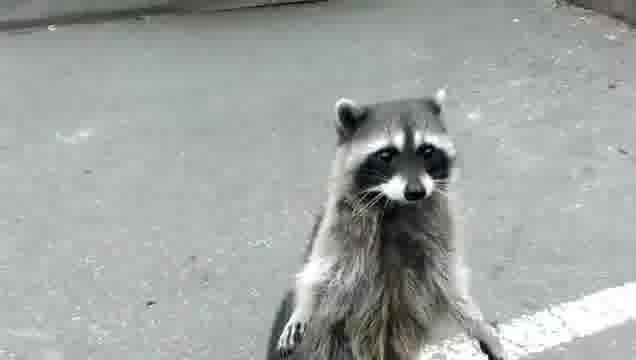raccoon: (267, 86, 509, 360)
